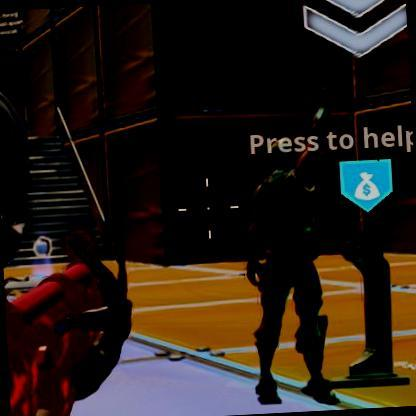person: (237, 143, 334, 407)
